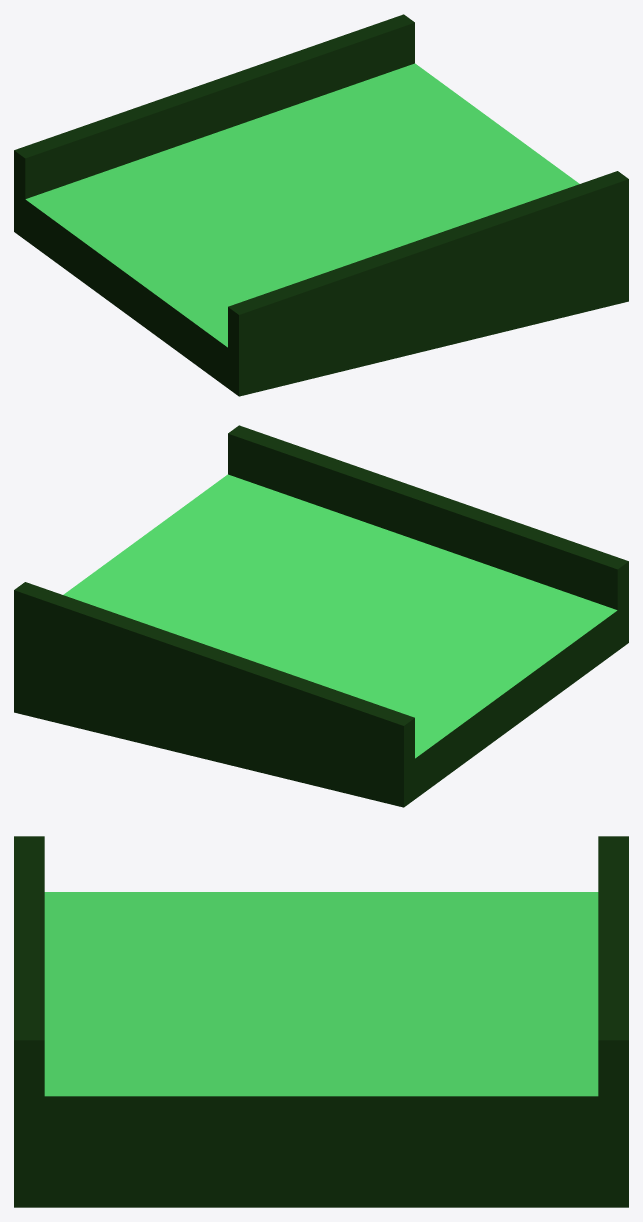
Rendered from MG Ramp 1.fbx.
The picture shows the model from 3 angles, top to bottom: view 1: azimuth 30°, elevation 25°; view 2: azimuth 150°, elevation 25°; view 3: azimuth 270°, elevation 25°; orthographic projection. The views are drawn at different scales.
Visible parts, largest first — view 1: MG Ramp 1; view 2: MG Ramp 1; view 3: MG Ramp 1.
Boxes of the visible parts, box(x1,y1,x2,y2) form: MG Ramp 1: box(14, 14, 628, 396); MG Ramp 1: box(14, 425, 628, 807); MG Ramp 1: box(14, 836, 628, 1207).
Size of the model in its own units: 200 by 60 by 200.
